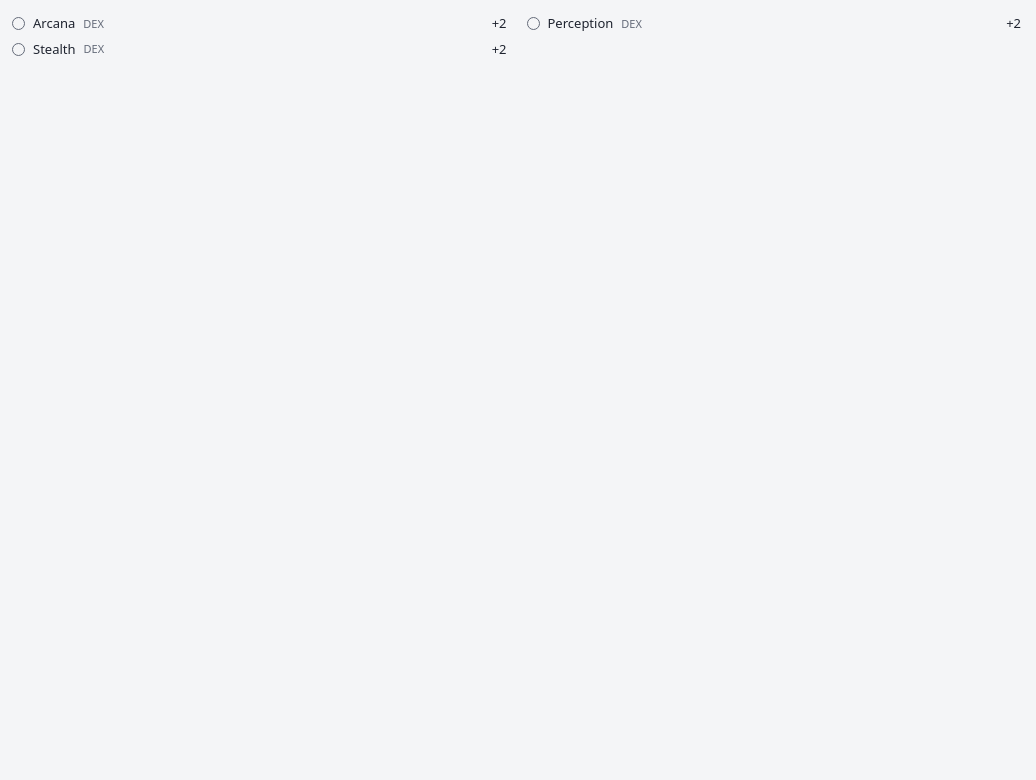
it: CatalogSkills › says when the change fails to save
Click the button named "Arcana proficiency: Not proficient" at (18, 24), box [12,17,25,30]
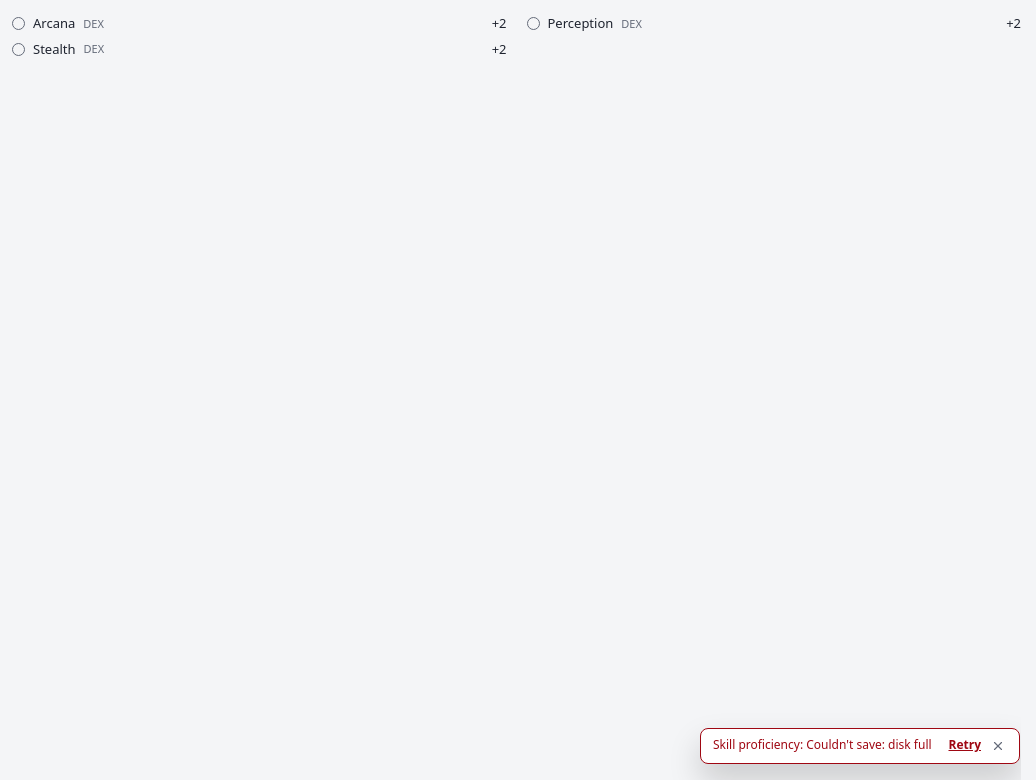
Expected: the text "Skill proficiency: Couldn't save: disk full" is shown, [713,737,940,753]
Expected: the button "Retry " is shown, [948,737,981,753]
